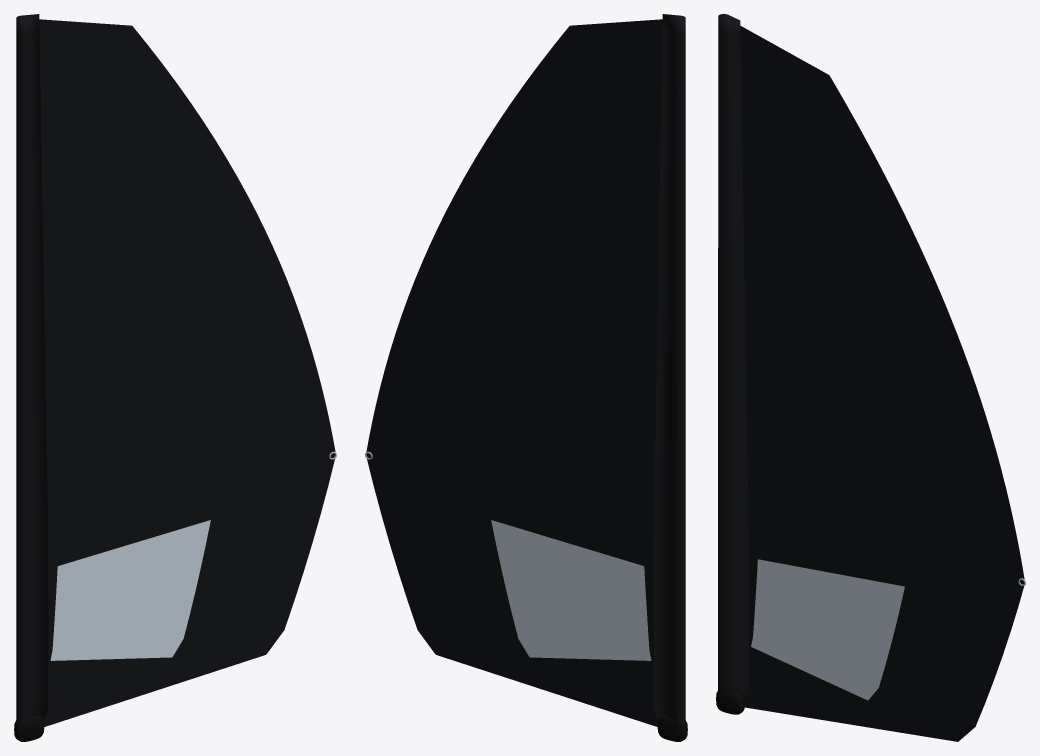
File: point9_freerace_6_8.glb
3 views of the same model, side by side, from view 1: azimuth 30°, elevation 25°; view 2: azimuth 150°, elevation 25°; view 3: azimuth 330°, elevation 25° (orthographic). The views are drawn at different scales.
Visible parts, largest first — view 1: SailCloth, TackFairing; view 2: SailCloth, TackFairing; view 3: SailCloth, TackFairing.
Part boxes in pixels (box(x1,y1,x2,y2)): SailCloth: box(16, 14, 335, 726); TackFairing: box(14, 715, 44, 741); SailCloth: box(366, 14, 685, 726); TackFairing: box(657, 715, 687, 741); SailCloth: box(718, 14, 1024, 741); TackFairing: box(716, 691, 744, 714).
Bounding box in the file's own units: 2.09 × 4.51 × 0.08.
